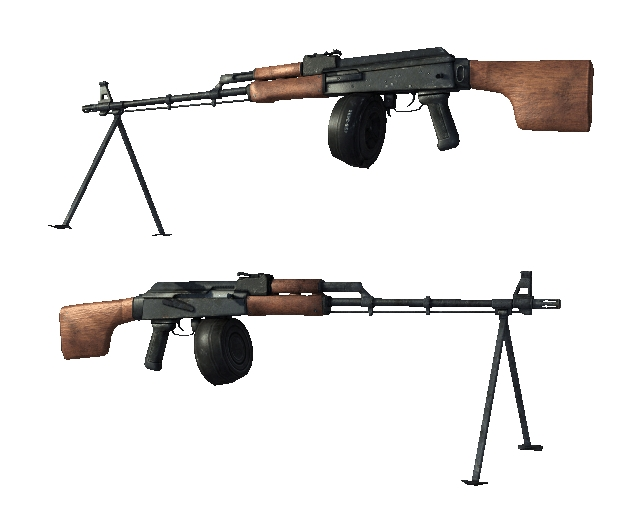rifle: (36, 257, 586, 490), (46, 34, 604, 232)
